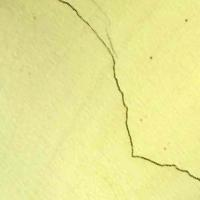crack: (59, 0, 199, 181)
